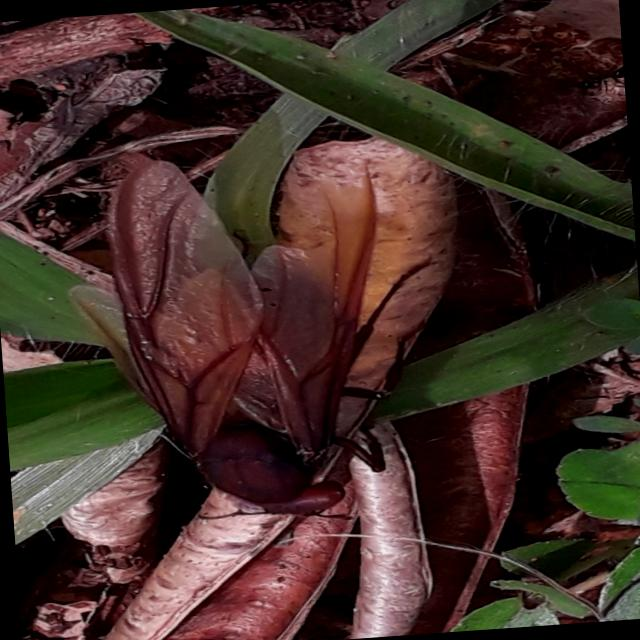Alive-Female-Alate: (58, 142, 452, 539)
